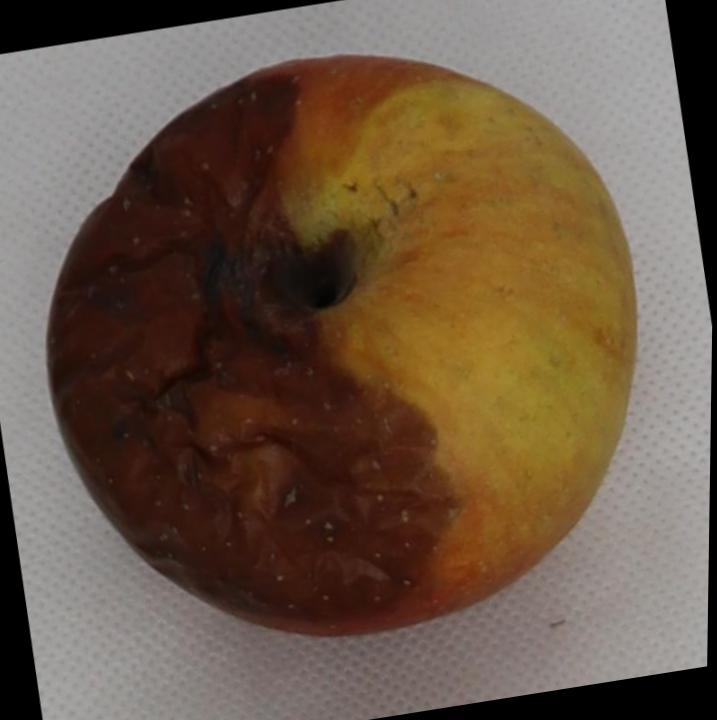apple: (44, 56, 633, 636)
rot_mold_decay: (44, 75, 453, 634)
